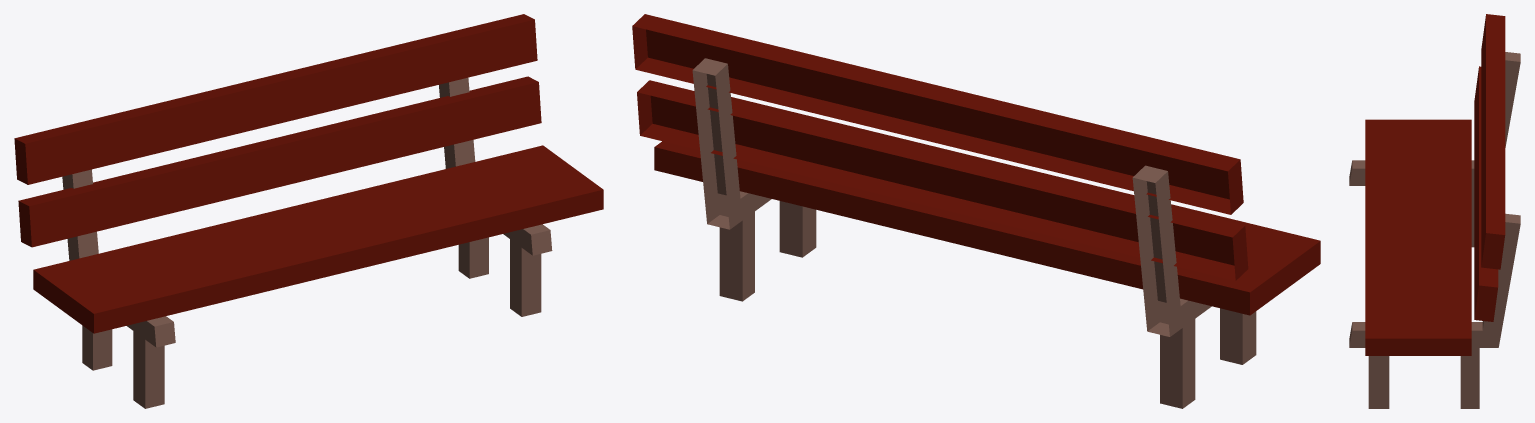
The model's file is bakerStreet_BenchSeat.fbx.
3 views of the same model, side by side, from view 1: azimuth 30°, elevation 25°; view 2: azimuth 150°, elevation 25°; view 3: azimuth 270°, elevation 25° (orthographic). The views are drawn at different scales.
Visible parts, largest first — view 1: Cube; view 2: Cube; view 3: Cube.
Boxes of the visible parts, <box> form: Cube: <box>14,14,603,408</box>; Cube: <box>632,14,1320,408</box>; Cube: <box>1349,14,1520,408</box>.
Size of the model in its own units: 322 by 138 by 107.
